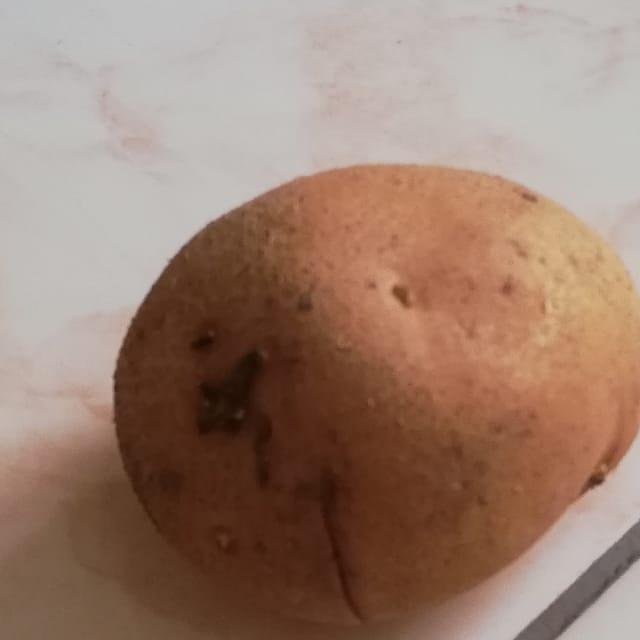potato: (102, 145, 640, 632)
